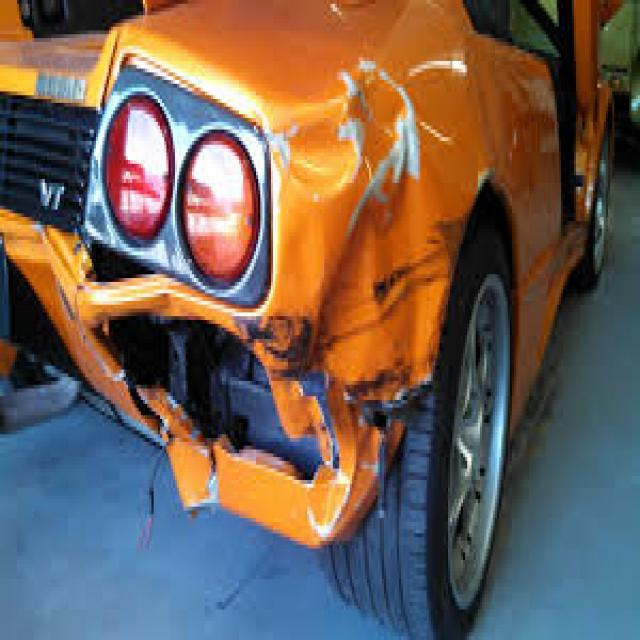moderate: (61, 102, 460, 523)
